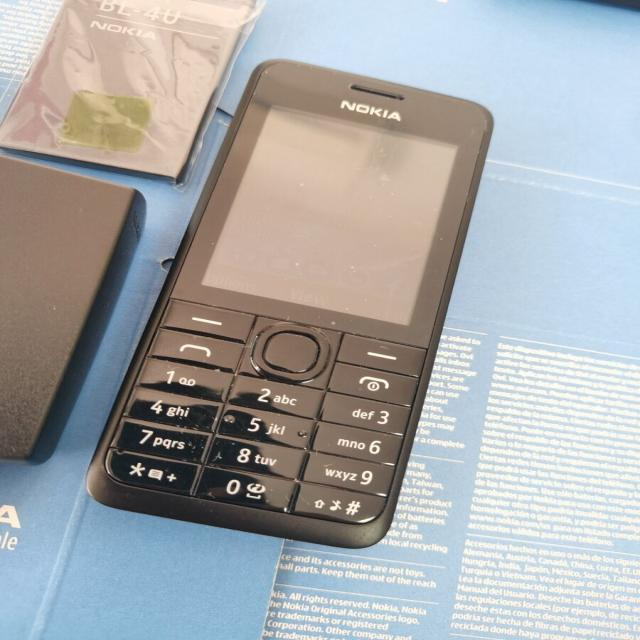mobile phone: (83, 57, 494, 550)
